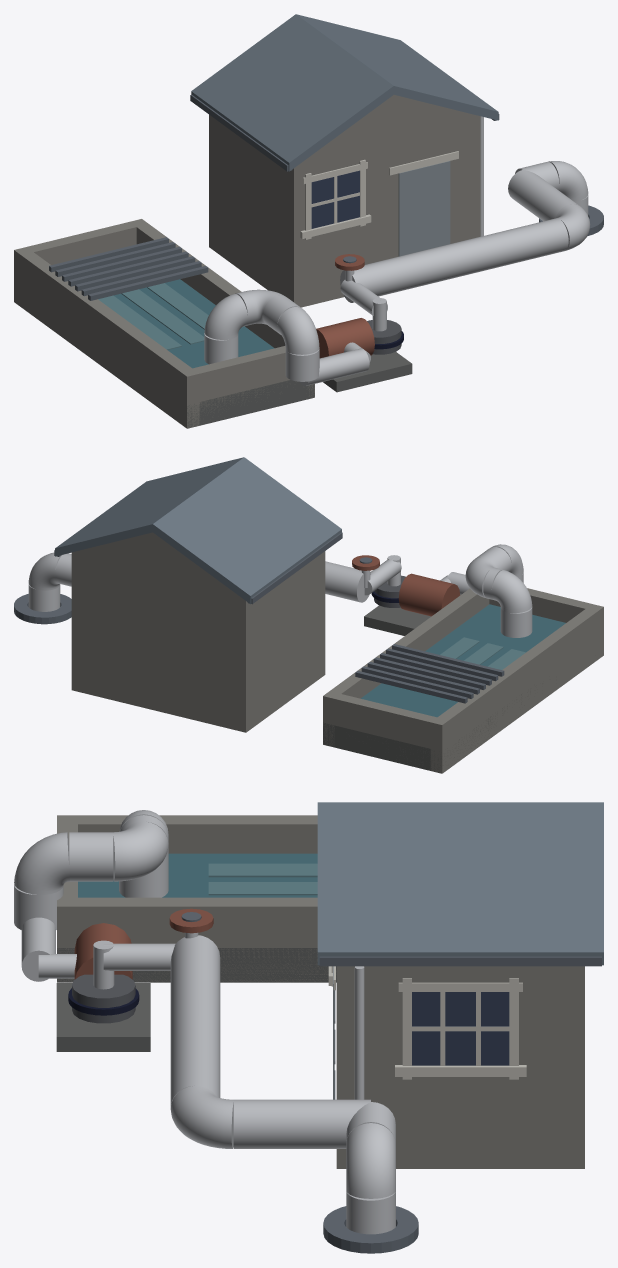
File: water_pump_lvl1.glb
3 renders of one model, top to bottom at view 1: azimuth 30°, elevation 25°; view 2: azimuth 150°, elevation 25°; view 3: azimuth 270°, elevation 25°, orthographic. The views are drawn at different scales.
Visible parts, largest first — view 1: water_pump; view 2: water_pump; view 3: water_pump.
Part boxes in pixels (x1,y1,x2,y2): water_pump: (14,14,603,428); water_pump: (14,457,603,773); water_pump: (14,802,603,1253).
Size of the model in its own units: 0.7795 by 0.2943 by 0.5242.
